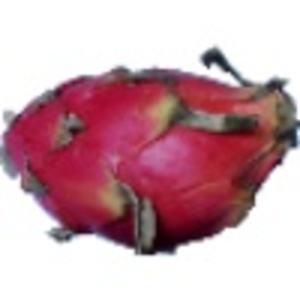pitaia: (1, 48, 300, 258)
